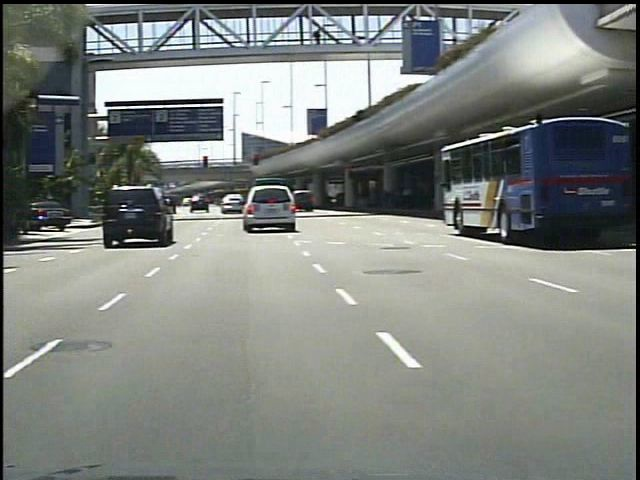person: (299, 27, 318, 52)
